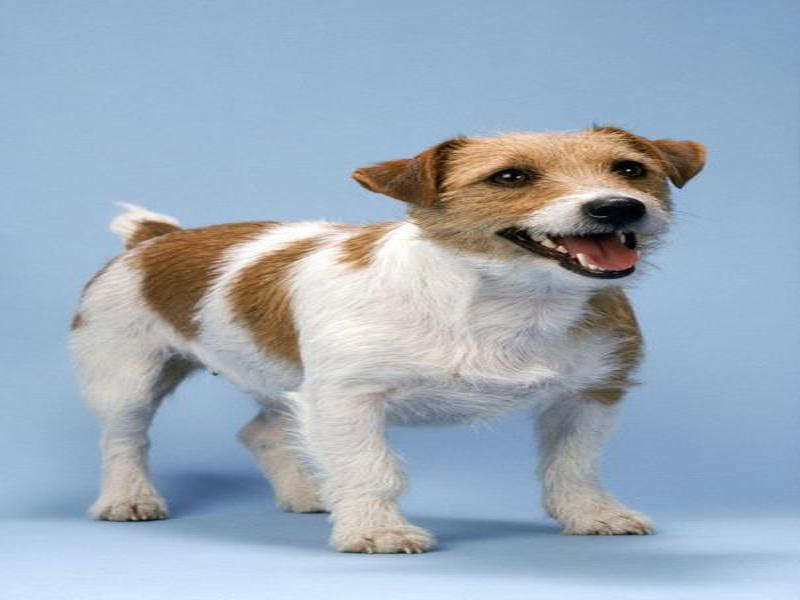dog_stand: (58, 117, 712, 575)
